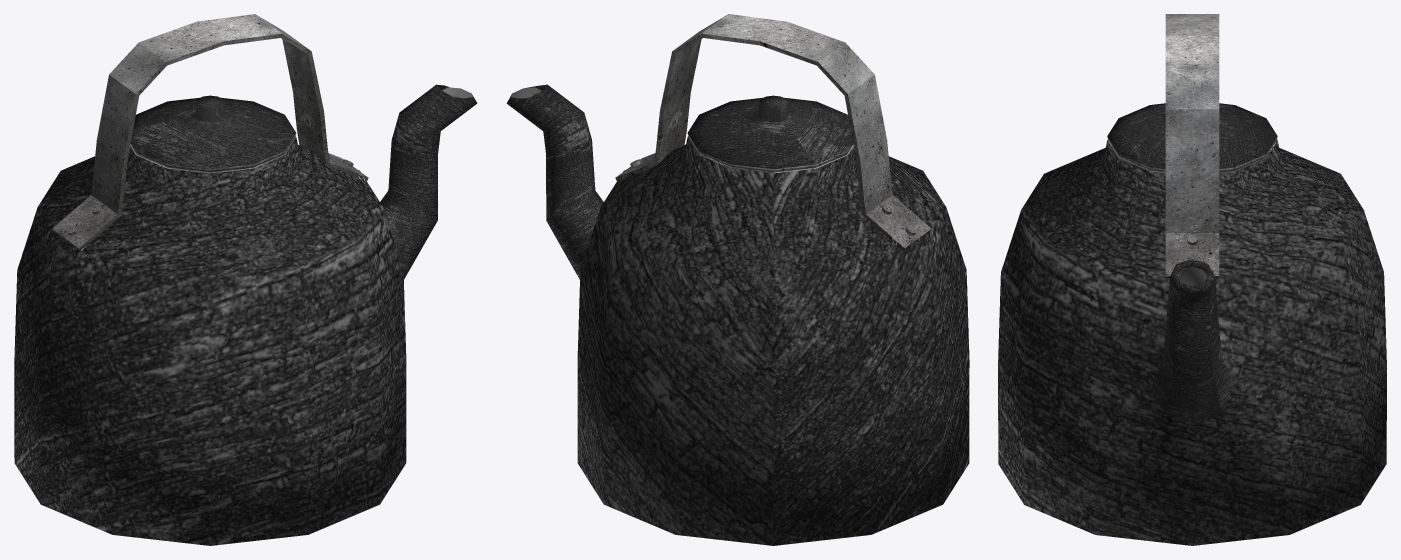
The model's file is the super.fbx.
The picture shows the model from 3 angles, left to right: view 1: azimuth 30°, elevation 25°; view 2: azimuth 150°, elevation 25°; view 3: azimuth 270°, elevation 25°; orthographic projection.
Parts seen in each view (by area): view 1: Cylinder.018; view 2: Cylinder.018; view 3: Cylinder.018.
Part boxes in pixels (bbox=[...]): Cylinder.018: bbox=[14, 14, 477, 545]; Cylinder.018: bbox=[506, 14, 969, 545]; Cylinder.018: bbox=[998, 14, 1386, 545].
Bounding box in the file's own units: 23.63 × 18.49 × 22.47.
2 materials, 2 textured.
